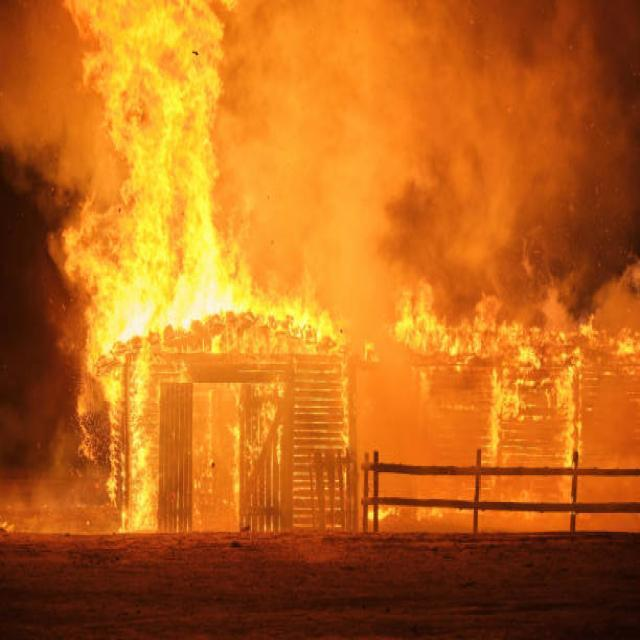Fire: (71, 0, 242, 317), (221, 286, 348, 526), (407, 301, 640, 413)
Smoke: (248, 0, 640, 282), (5, 0, 81, 210)
